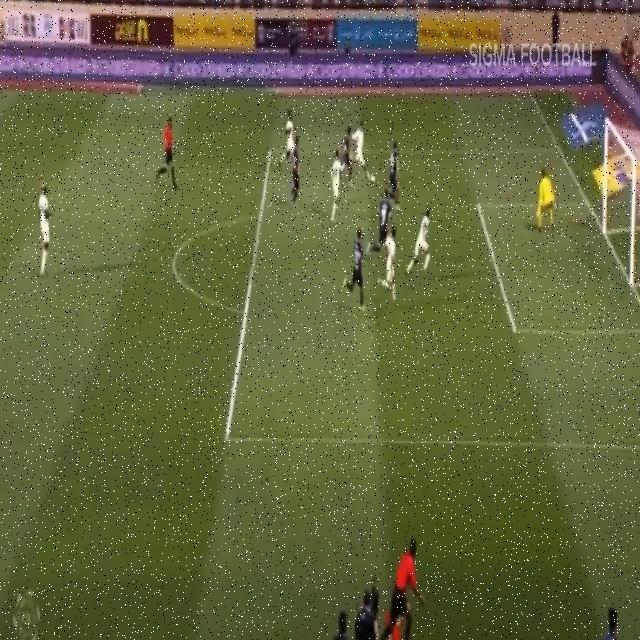ball: (368, 168, 378, 198)
goalkeeper: (535, 150, 561, 242)
player: (411, 191, 437, 296), (376, 181, 400, 283), (34, 180, 56, 284), (343, 219, 368, 310), (384, 228, 400, 310), (279, 107, 296, 182), (385, 129, 401, 207), (329, 139, 344, 212), (352, 120, 368, 181), (289, 139, 303, 207), (345, 120, 357, 176)
referee: (155, 109, 181, 191)
